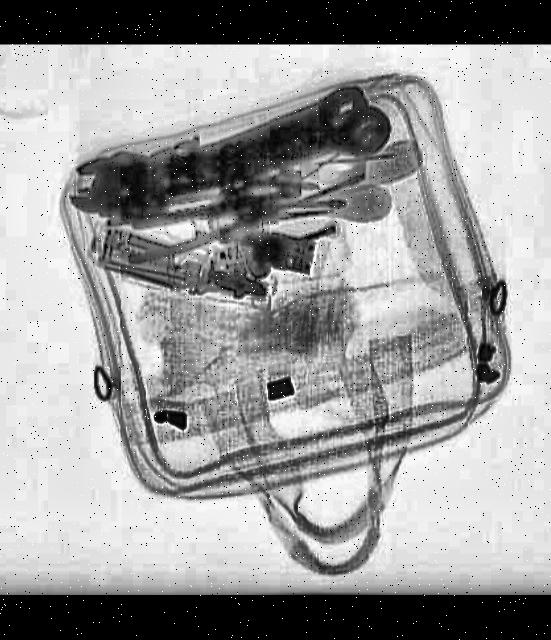Wrench: (62, 98, 398, 224)
